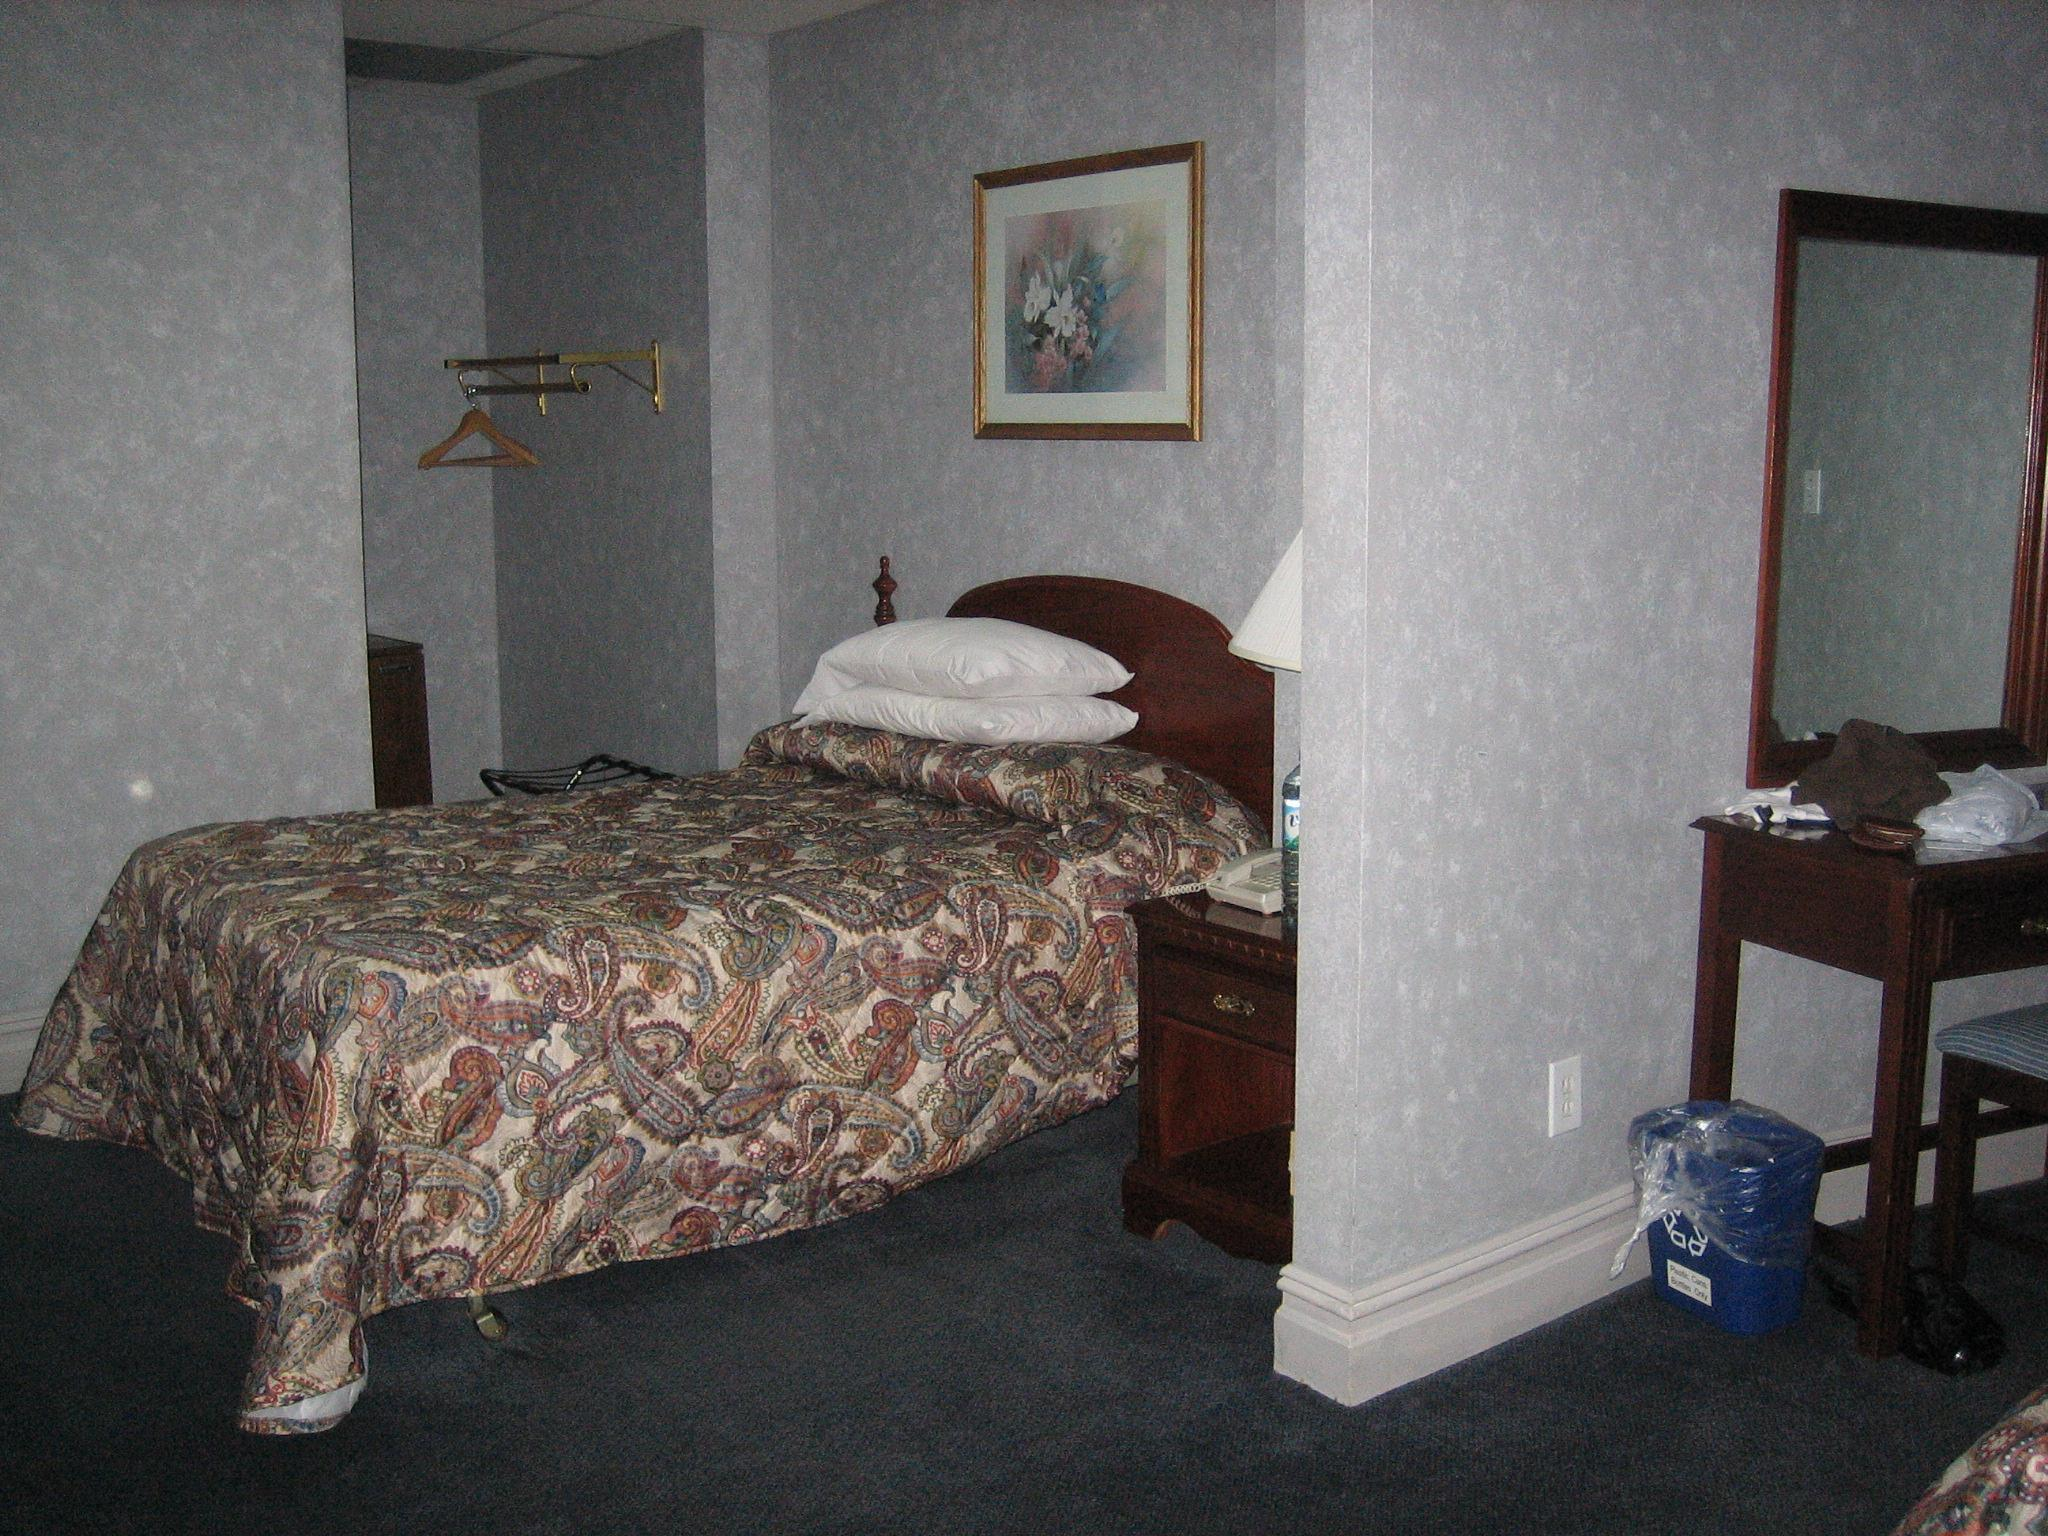Bote de Basura: (1609, 1075, 1824, 1350)
Cama: (48, 582, 1234, 1354)
